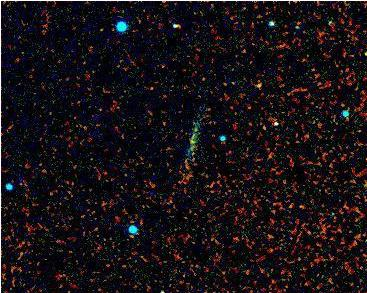star: (237, 67, 267, 97)
